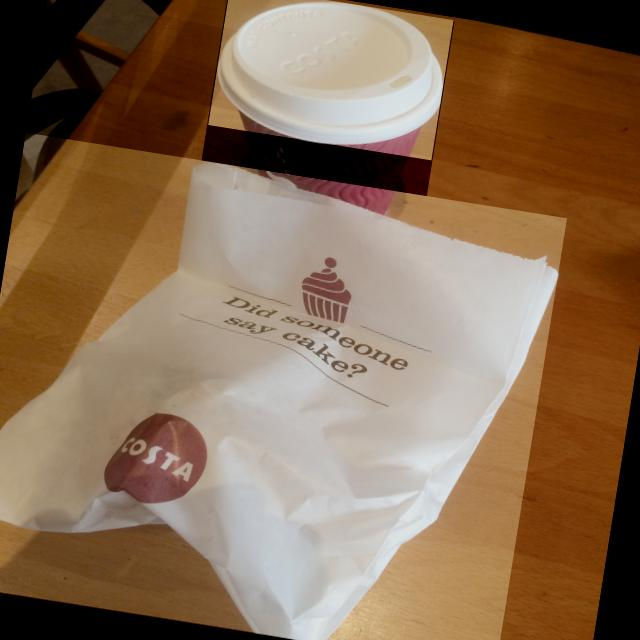Cup: (218, 3, 443, 215)
Lid: (218, 3, 443, 145)
Paper: (0, 163, 558, 640)
